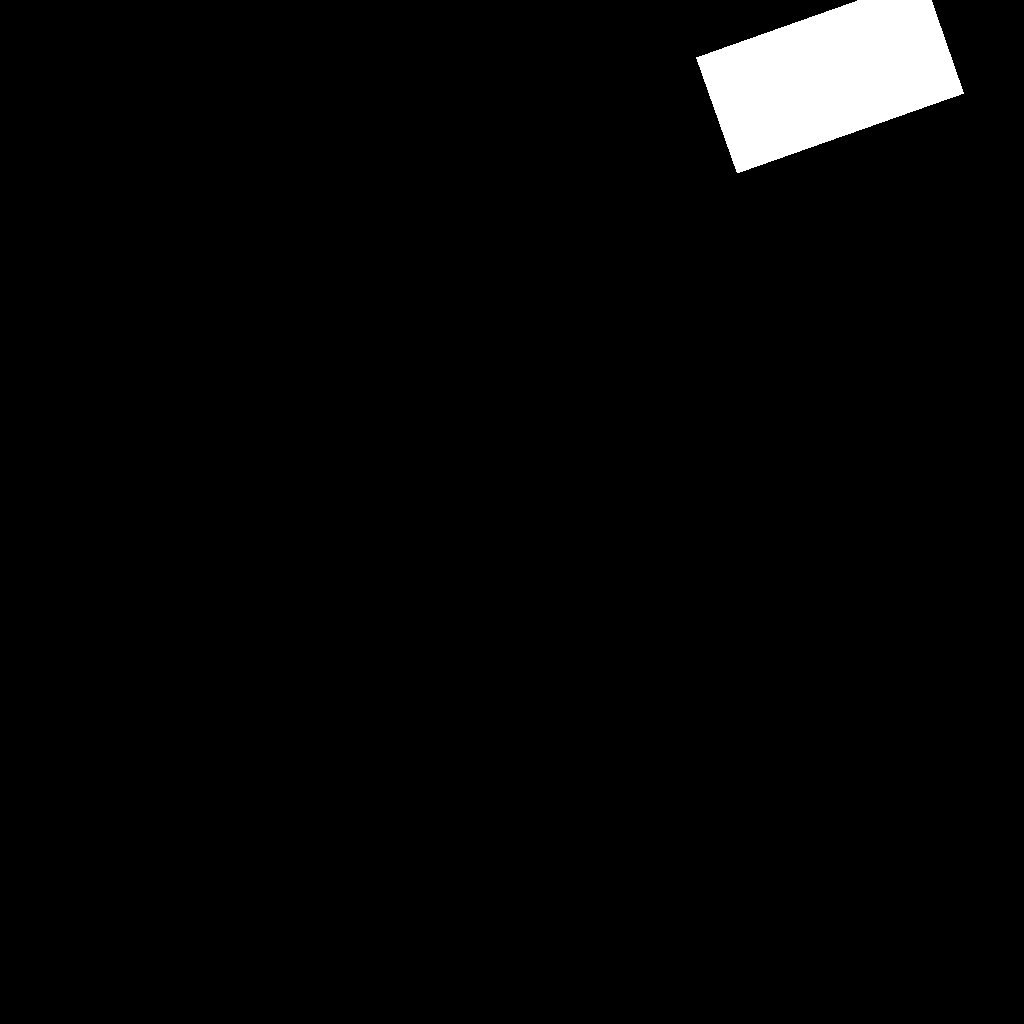building: (696, 0, 965, 174)
